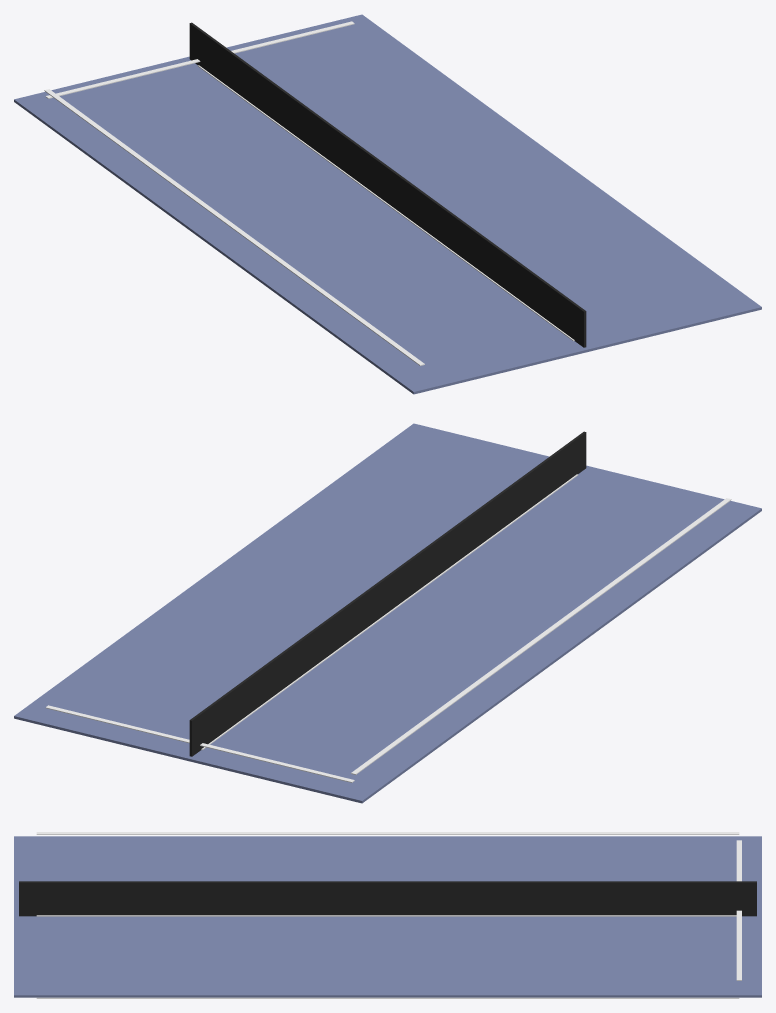
File: nd_pitch_1060077917.glb
3 renders of one model, top to bottom at view 1: azimuth 30°, elevation 25°; view 2: azimuth 150°, elevation 25°; view 3: azimuth 270°, elevation 25°, orthographic. The views are drawn at different scales.
Parts seen in each view (by area): view 1: nd_pitch_1060077917_lod0; view 2: nd_pitch_1060077917_lod0; view 3: nd_pitch_1060077917_lod0.
Boxes of the visible parts, x1,y1,x2,y2 form: nd_pitch_1060077917_lod0: [14, 14, 761, 394]; nd_pitch_1060077917_lod0: [14, 423, 761, 803]; nd_pitch_1060077917_lod0: [14, 832, 761, 998].
Size of what is drawn, in the model's own units: 8.6 by 1.16 by 17.1.
